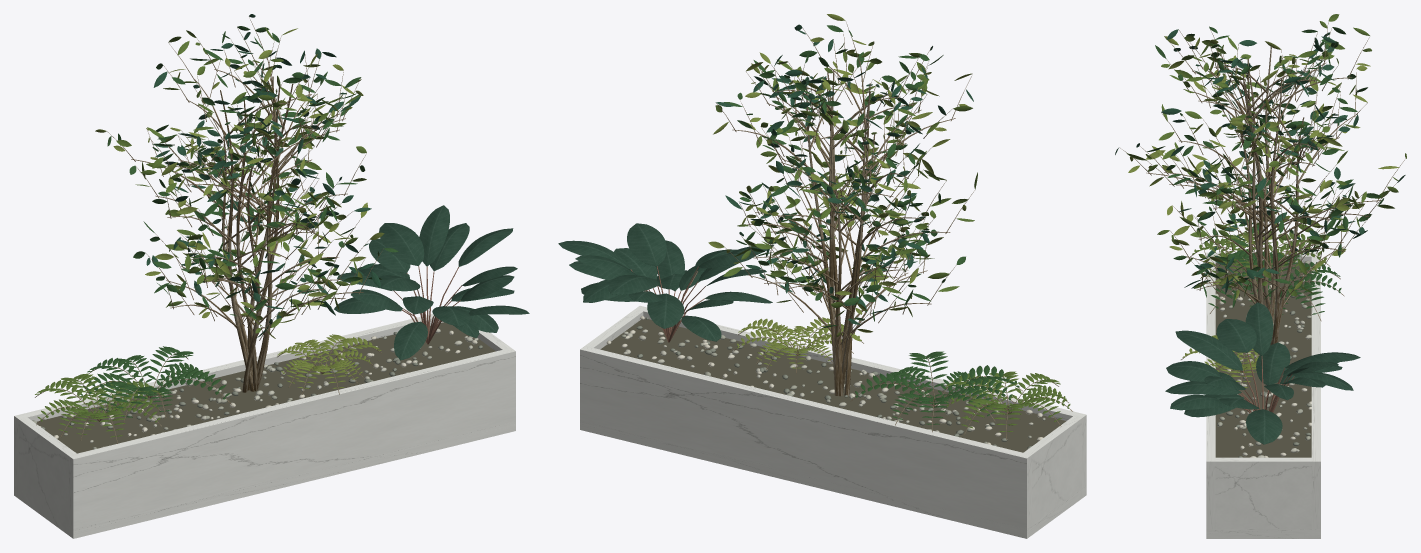
3 views of the same model, side by side, from view 1: azimuth 30°, elevation 25°; view 2: azimuth 150°, elevation 25°; view 3: azimuth 270°, elevation 25° (orthographic). The views are drawn at different scales.
Parts seen in each view (by area): view 1: white veined marble, textured warm tree bark, planting soil, dark waxy broad leaves, leaf 0, leaf 1, leaf 2, leaf 3, rounded gravel 1, rounded gravel 3, reddish leaf petioles, rounded gravel 2 (+1 smaller); view 2: white veined marble, textured warm tree bark, planting soil, leaf 0, dark waxy broad leaves, leaf 1, leaf 2, leaf 3, rounded gravel 1, rounded gravel 3, rounded gravel 2, rounded gravel 0; view 3: textured warm tree bark, white veined marble, dark waxy broad leaves, planting soil, leaf 0, leaf 1, leaf 2, leaf 3, reddish leaf petioles, rounded gravel 1, rounded gravel 2, rounded gravel 0.
Boxes of the visible parts, x1,y1,x2,y2 form: white veined marble: (14,314,515,538); textured warm tree bark: (35,17,383,443); planting soil: (37,322,495,453); dark waxy broad leaves: (334,205,529,360); leaf 0: (80,26,398,417); leaf 1: (35,27,366,437); leaf 2: (95,28,384,388); leaf 3: (146,14,380,337); rounded gravel 1: (90,328,478,442); rounded gravel 3: (41,332,482,452); reddish leaf petioles: (393,266,461,344); rounded gravel 2: (39,330,477,447); white veined marble: (580,305,1086,538); textured warm tree bark: (716,22,1072,439); planting soil: (600,318,1066,452); leaf 0: (724,25,1019,424); dark waxy broad leaves: (558,223,773,341); leaf 1: (715,41,1070,431); leaf 2: (708,14,972,368); leaf 3: (716,24,973,324); rounded gravel 1: (623,329,1033,432); rounded gravel 3: (636,317,1063,448); rounded gravel 2: (606,316,1042,449); rounded gravel 0: (621,334,1045,443); textured warm tree bark: (1120,22,1405,394); white veined marble: (1206,252,1320,538); dark waxy broad leaves: (1165,302,1360,444); planting soil: (1215,263,1311,457); leaf 0: (1146,26,1383,314); leaf 1: (1126,14,1406,296); leaf 2: (1128,36,1398,387); leaf 3: (1115,29,1405,294); reddish leaf petioles: (1221,352,1294,413); rounded gravel 1: (1215,273,1311,457); rounded gravel 2: (1215,261,1311,457); rounded gravel 0: (1217,260,1311,457).
Bounding box in the file's own units: 2.75 × 2.27 × 1.47.
13 materials, 7 textured.
